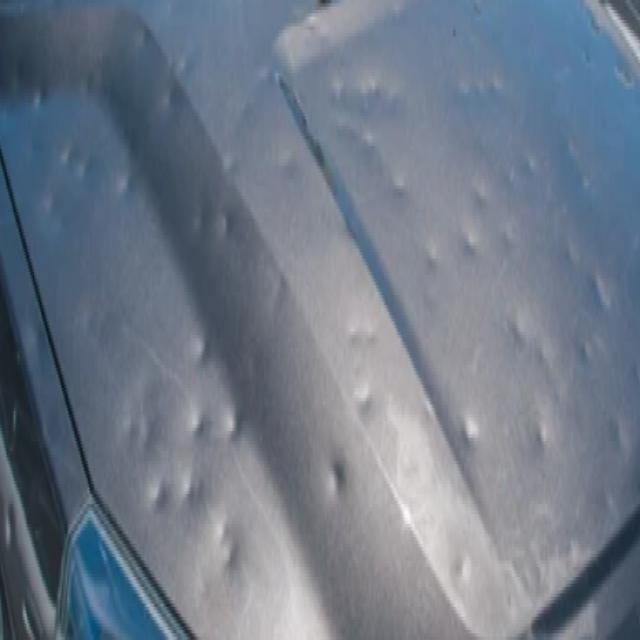dents: (393, 434, 429, 498), (27, 311, 58, 383), (450, 534, 476, 618), (447, 534, 479, 602), (186, 320, 217, 390), (215, 510, 242, 590), (323, 439, 349, 519), (272, 254, 294, 346), (504, 297, 531, 371), (420, 233, 452, 295), (394, 439, 422, 508), (572, 311, 598, 385), (272, 138, 304, 196), (215, 190, 239, 265), (114, 141, 137, 219), (608, 406, 633, 476), (353, 370, 379, 437), (185, 399, 215, 457), (584, 256, 612, 318), (498, 207, 524, 273), (131, 17, 161, 74), (324, 58, 352, 118), (40, 176, 64, 241), (599, 479, 625, 538), (4, 479, 21, 565), (156, 74, 179, 136), (222, 408, 250, 458), (80, 55, 102, 118), (180, 468, 207, 518), (358, 126, 381, 184), (561, 221, 584, 279), (77, 145, 98, 208), (524, 145, 547, 202), (345, 316, 381, 352), (362, 67, 386, 121), (459, 216, 482, 272), (530, 422, 562, 462), (220, 131, 244, 184), (390, 169, 414, 222), (470, 169, 491, 225), (176, 46, 200, 94), (57, 126, 76, 186), (191, 195, 208, 262), (28, 84, 50, 132), (499, 147, 520, 195), (458, 418, 484, 456), (152, 477, 170, 531), (452, 72, 472, 120), (8, 387, 26, 440), (562, 122, 579, 176), (537, 344, 557, 388), (579, 41, 599, 85), (122, 418, 138, 470), (486, 72, 505, 112)
